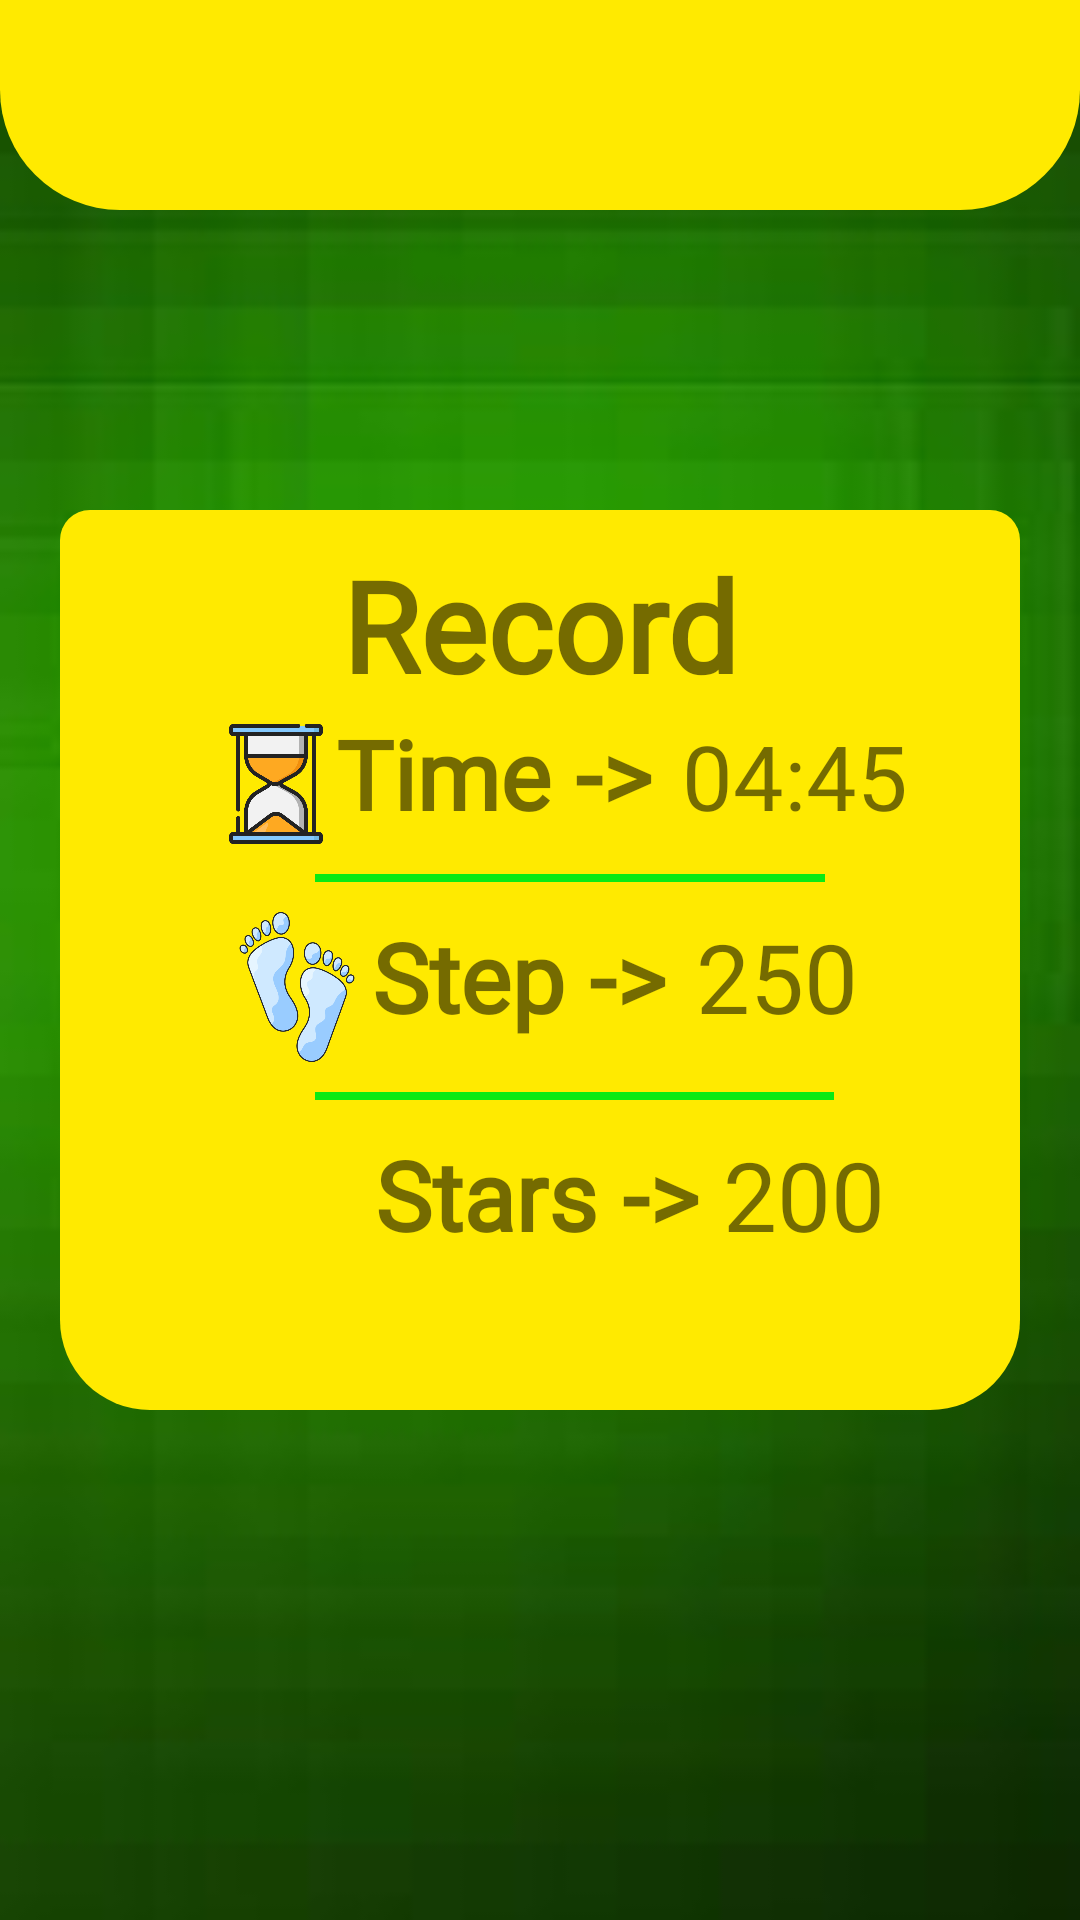

Where icons sit on this 1080×1920 app screen, as {"left": x1, "top": y1, "right": x2, "bottom": y2}:
footprint: {"left": 239, "top": 912, "right": 355, "bottom": 1062}
hourglass: {"left": 229, "top": 724, "right": 323, "bottom": 844}
